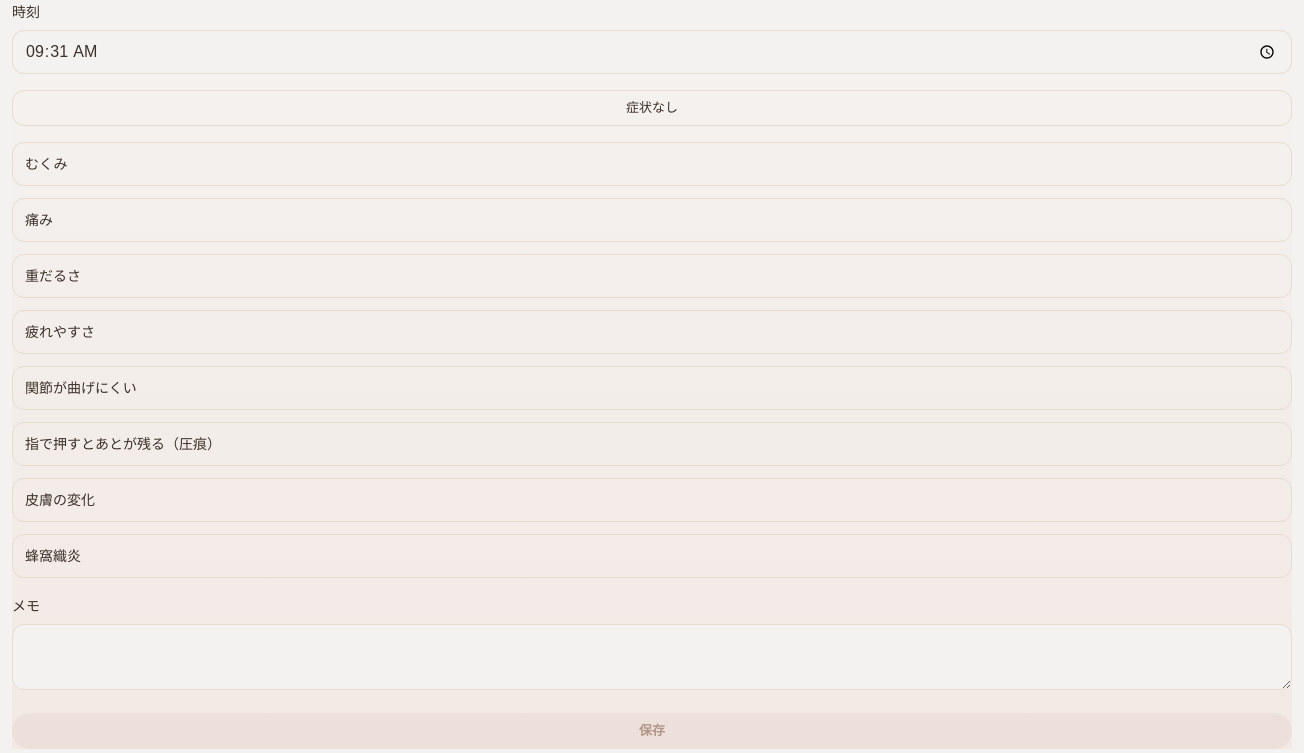
Test: SymptomsForm › disables 症状なし once a symptom is chosen and shows severity and sites
This screenshot has width=1304, height=753.
Click the button "むくみ": (46, 164) x1=12 y1=142 x2=1292 y2=186
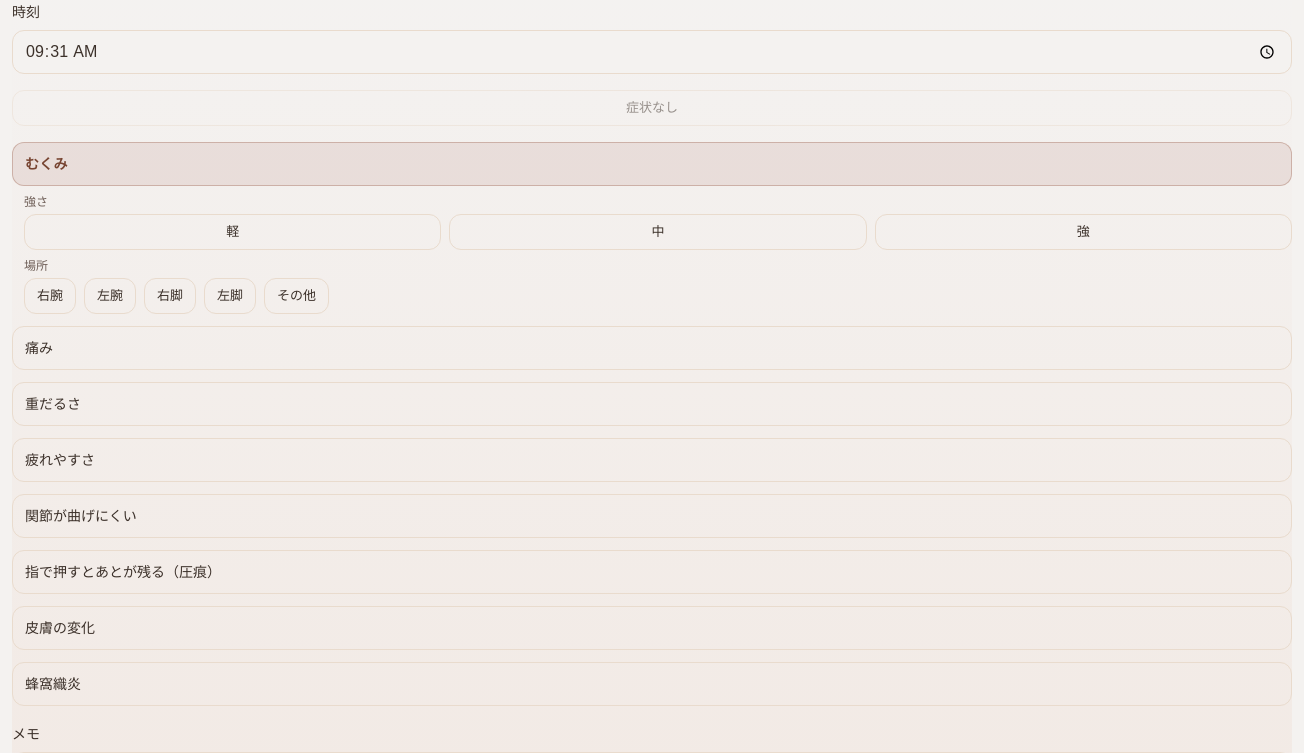
Expected: the button "症状なし" is disabled, x1=12 y1=90 x2=1292 y2=126
Expected: the radio buttons read "軽", "中", "強", in this order, x1=24 y1=214 x2=441 y2=250; x1=449 y1=214 x2=867 y2=250; x1=875 y1=214 x2=1292 y2=250
Expected: the button "左腕" is shown, x1=84 y1=278 x2=136 y2=314
